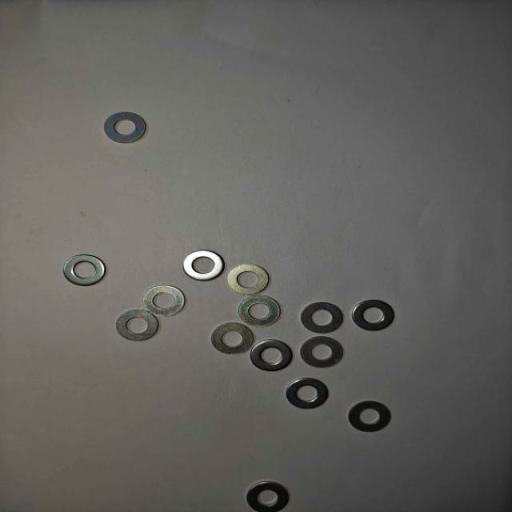Washer: (299, 335, 345, 370), (347, 399, 393, 434), (115, 308, 160, 343), (284, 377, 330, 411), (103, 111, 148, 145), (142, 284, 187, 318), (210, 321, 255, 355), (249, 339, 294, 373), (299, 301, 344, 335), (351, 298, 396, 332), (237, 294, 283, 327), (62, 253, 106, 287), (226, 263, 271, 296), (245, 480, 291, 512), (182, 249, 225, 282)
